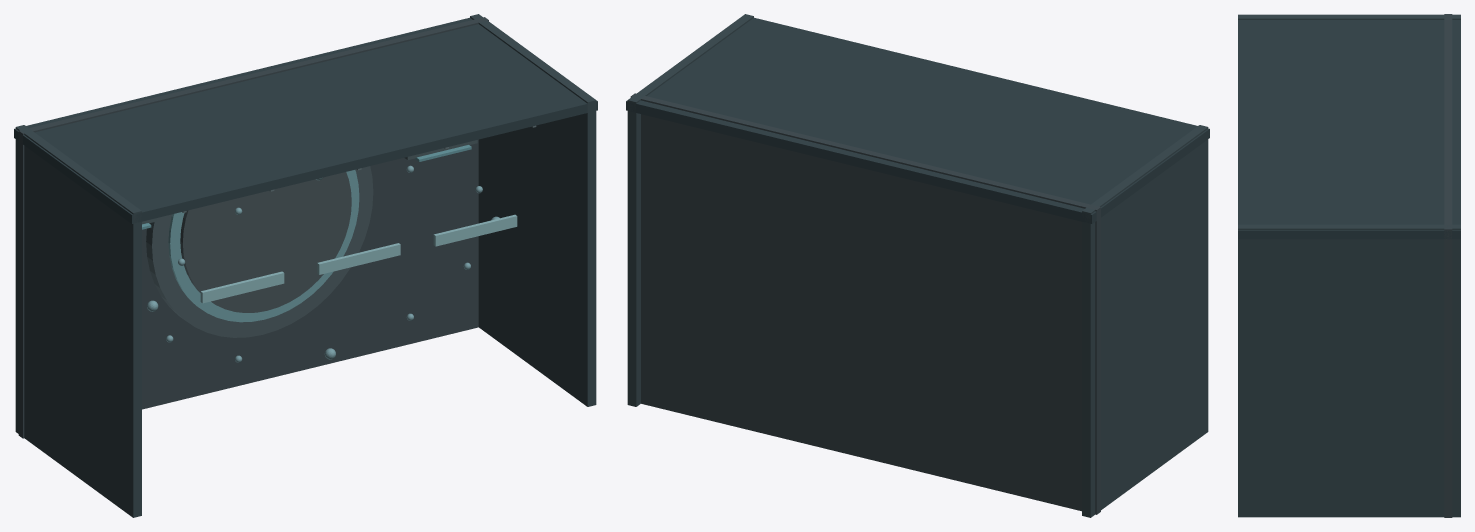
The model's file is scientific_lab.glb.
3 views of the same model, side by side, from view 1: azimuth 30°, elevation 25°; view 2: azimuth 150°, elevation 25°; view 3: azimuth 270°, elevation 25° (orthographic). The views are drawn at different scales.
Parts seen in each view (by area): view 1: back_wall, floor, left_wall, right_wall, platform_top, platform_base, platform_trim, ceiling_rail_-4, ceiling_rail_4, ceiling_rail_0; view 2: floor, back_wall, left_wall, right_wall; view 3: right_wall, back_wall, floor, left_wall.
Part boxes in pixels (left/top/right/bottom): back_wall: left=14, top=17, right=597, bottom=223; floor: left=18, top=17, right=488, bottom=438; left_wall: left=15, top=125, right=141, bottom=517; right_wall: left=470, top=14, right=596, bottom=406; platform_top: left=180, top=172, right=351, bottom=312; platform_base: left=146, top=166, right=373, bottom=337; platform_trim: left=168, top=170, right=359, bottom=322; ceiling_rail_-4: left=200, top=271, right=284, bottom=303; ceiling_rail_4: left=433, top=214, right=517, bottom=246; ceiling_rail_0: left=317, top=243, right=400, bottom=274; floor: left=630, top=93, right=1100, bottom=514; back_wall: left=626, top=17, right=1209, bottom=223; left_wall: left=1082, top=125, right=1208, bottom=517; right_wall: left=627, top=14, right=753, bottom=406; right_wall: left=1238, top=224, right=1460, bottom=517; back_wall: left=1238, top=20, right=1460, bottom=239; floor: left=1444, top=14, right=1452, bottom=517; left_wall: left=1238, top=14, right=1460, bottom=19.
Size of the model in its own units: 16 by 10 by 7.
